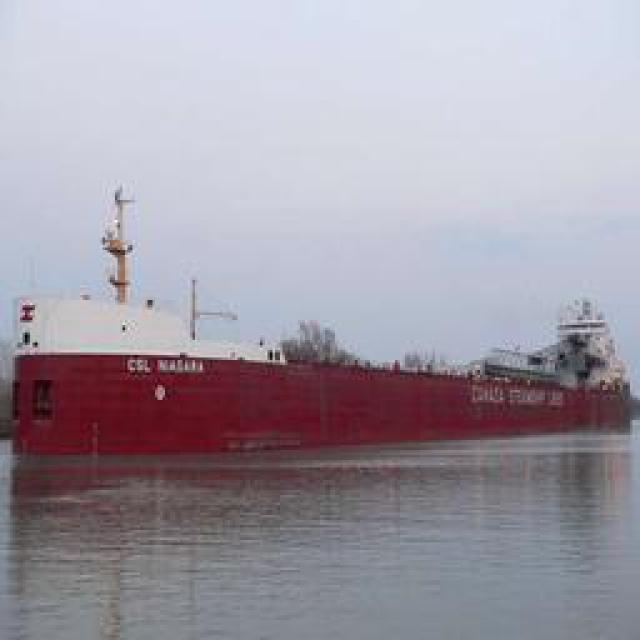Ship: (4, 297, 639, 457)
